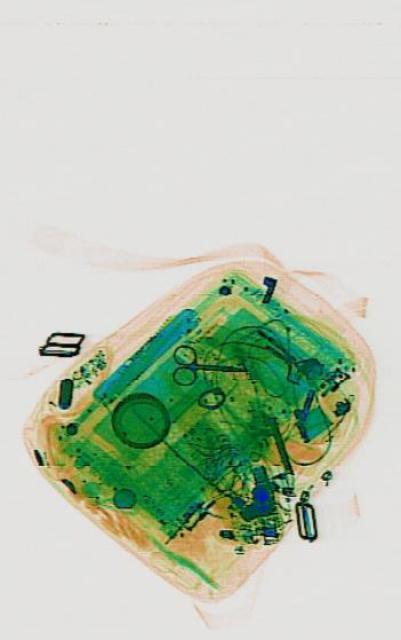Scissors: (169, 340, 246, 388)
